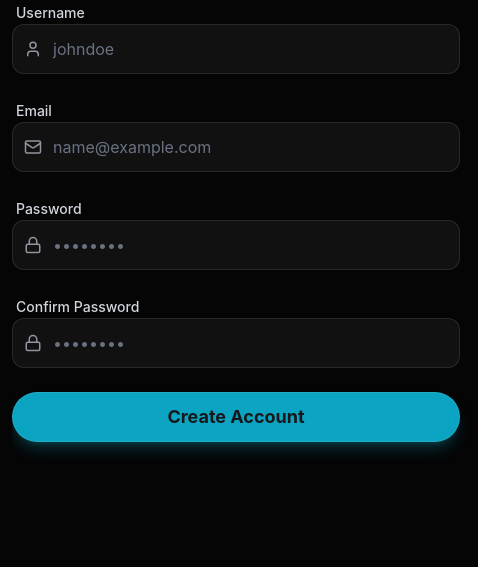
Test case: RegisterForm › shows validation errors for empty fields on submit
The image size is (478, 567).
Click the button "Create Account" at (236, 417), box [12,392,460,442]
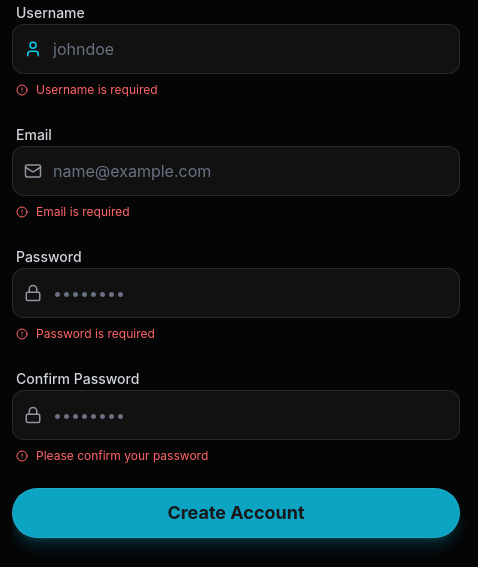
Expected: the text "Username is required" is shown, [36,82,158,98]
Expected: the text "Email is required" is shown, [36,204,130,220]
Expected: the text "Password is required" is shown, [36,326,155,342]
